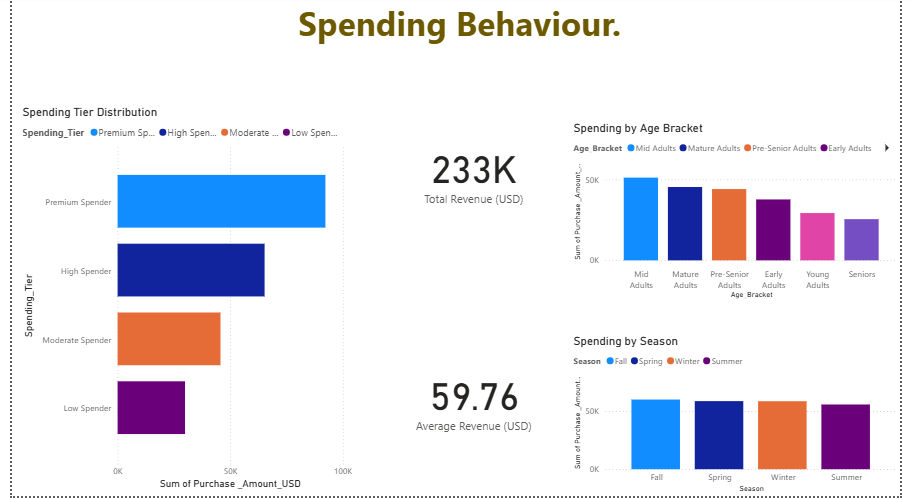

This screenshot's page, from the dashboard's own definition file:
{"tool":"powerbi","page":{"name":"Page 2","canvas":[1280,720],"ordinal":1},"visuals":[{"type":"card","fields":{"Values":["Sum(shopping_behavior_updated (1)(working sheet).Purchase _Amount_USD)"]},"box":[524.9,113.3,278.7,280.4],"z":0},{"type":"card","fields":{"Values":["Avg(shopping_behavior_updated (1)(working sheet).Purchase _Amount_USD)"]},"box":[524.9,440.4,278.7,280.4],"z":1000},{"type":"columnChart","title":"Spending by Age Bracket","fields":{"Category":["shopping_behavior_updated (1)(working sheet).Age_Bracket"],"Y":["Sum(shopping_behavior_updated (1)(working sheet).Purchase _Amount_USD)"],"Series":["shopping_behavior_updated (1)(working sheet).Age_Bracket"]},"box":[803.6,179.8,476.4,260.7],"z":2000},{"type":"columnChart","title":"Spending by Season","fields":{"Category":["shopping_behavior_updated (1)(working sheet).Season"],"Y":["Sum(shopping_behavior_updated (1)(working sheet).Purchase _Amount_USD)"],"Series":["shopping_behavior_updated (1)(working sheet).Season"]},"box":[803.6,487.2,476.4,233.7],"z":3000},{"type":"barChart","title":"Spending Tier Distribution","fields":{"Category":["shopping_behavior_updated (1)(working sheet).Spending_Tier"],"Y":["Sum(shopping_behavior_updated (1)(working sheet).Purchase _Amount_USD)"],"Series":["shopping_behavior_updated (1)(working sheet).Spending_Tier"]},"box":[10.8,156.4,485.4,559.1],"z":4000},{"type":"textbox","box":[10.8,0,1269.2,97.1],"z":5000}]}

Visuals, with their boxes in screenshot pixels (x1, y1, x2, y2), scaled from the page's 1280x720 canvas onto the 911x498 screenshot:
card - Sum(shopping_behavior_updated (1)(working sheet).Purchase _Amount_USD): <bbox>374, 78, 572, 272</bbox>
card - Avg(shopping_behavior_updated (1)(working sheet).Purchase _Amount_USD): <bbox>374, 305, 572, 497</bbox>
"Spending by Age Bracket" columnChart: <bbox>572, 124, 910, 305</bbox>
"Spending by Season" columnChart: <bbox>572, 337, 910, 497</bbox>
"Spending Tier Distribution" barChart: <bbox>8, 108, 353, 495</bbox>
textbox: <bbox>8, 0, 910, 67</bbox>
